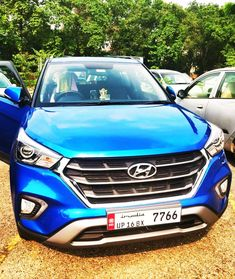number_plate: (95, 203, 186, 230)
